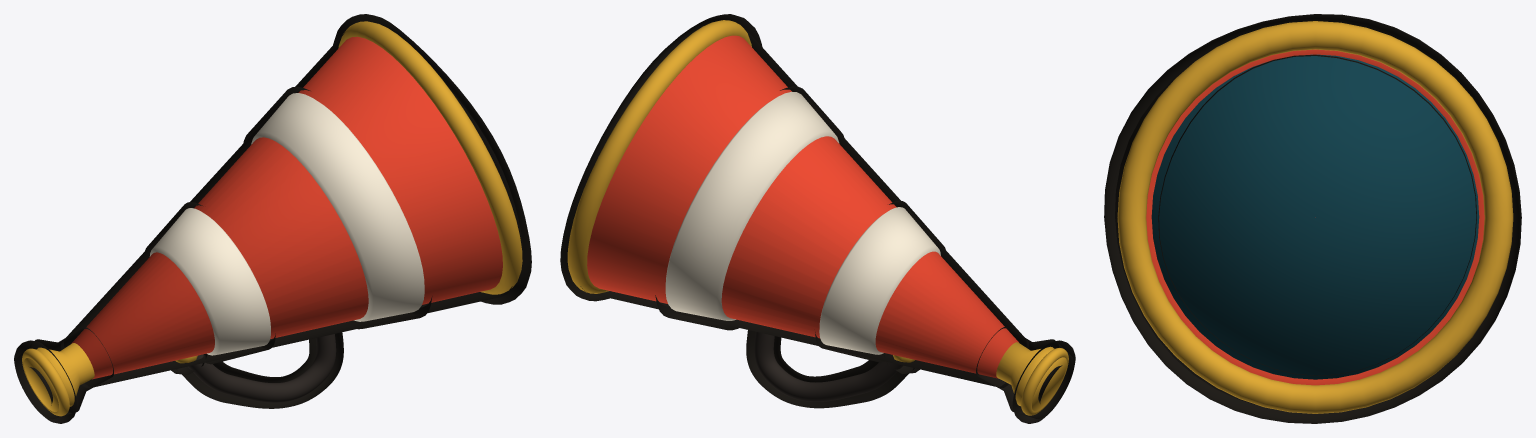
The model's file is megaphone.glb.
3 views of the same model, side by side, from view 1: azimuth 30°, elevation 25°; view 2: azimuth 150°, elevation 25°; view 3: azimuth 270°, elevation 25° (orthographic). The views are drawn at different scales.
Visible parts, largest first — view 1: Megaphone, Megaphone_outline; view 2: Megaphone, Megaphone_outline; view 3: Megaphone, Megaphone_outline.
Part boxes in pixels (x1,y1,x2,y2): Megaphone: (22, 21, 522, 416); Megaphone_outline: (14, 14, 531, 423); Megaphone: (567, 20, 1068, 415); Megaphone_outline: (560, 14, 1075, 423); Megaphone: (1117, 21, 1513, 413); Megaphone_outline: (1104, 14, 1521, 423).
Size of the model in its own units: 1.89 by 1.38 by 1.16.
